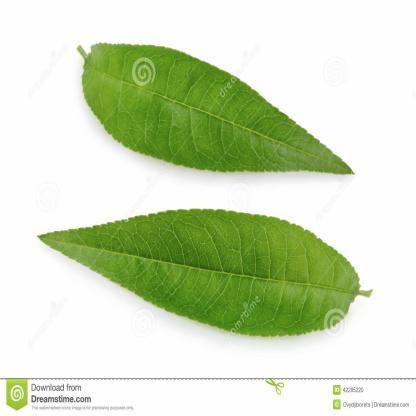Peach leaf: (23, 200, 373, 341), (72, 24, 358, 181)
